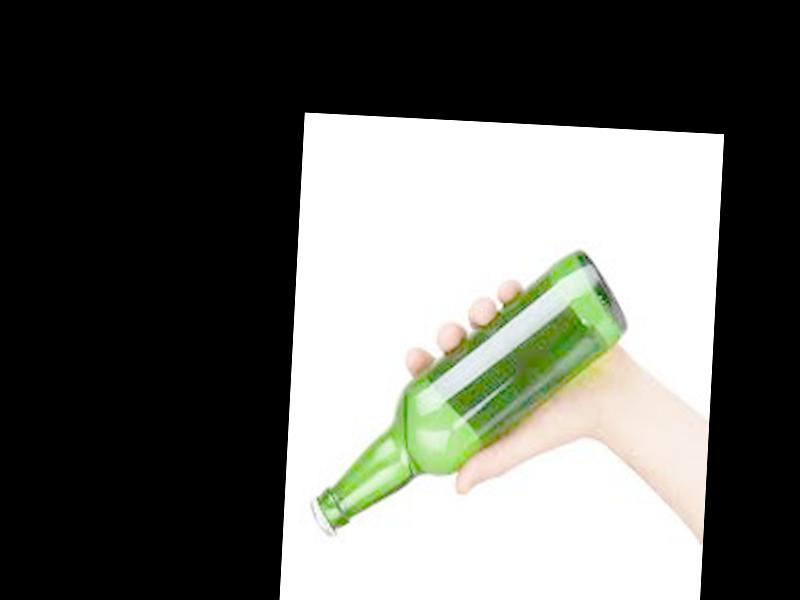Beer: (313, 240, 636, 552)
